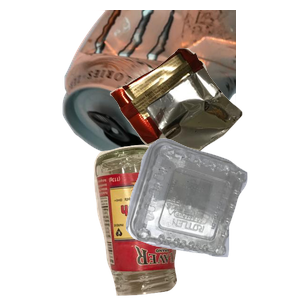glass: (91, 142, 260, 300)
metal: (60, 10, 300, 175)
plastic: (123, 136, 300, 300)
trash: (107, 46, 300, 198)
